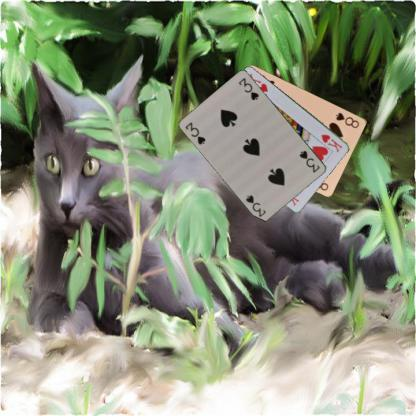3s: (182, 120, 207, 146), (297, 148, 321, 174)
8s: (334, 110, 361, 129)
Kh: (319, 132, 344, 154)
